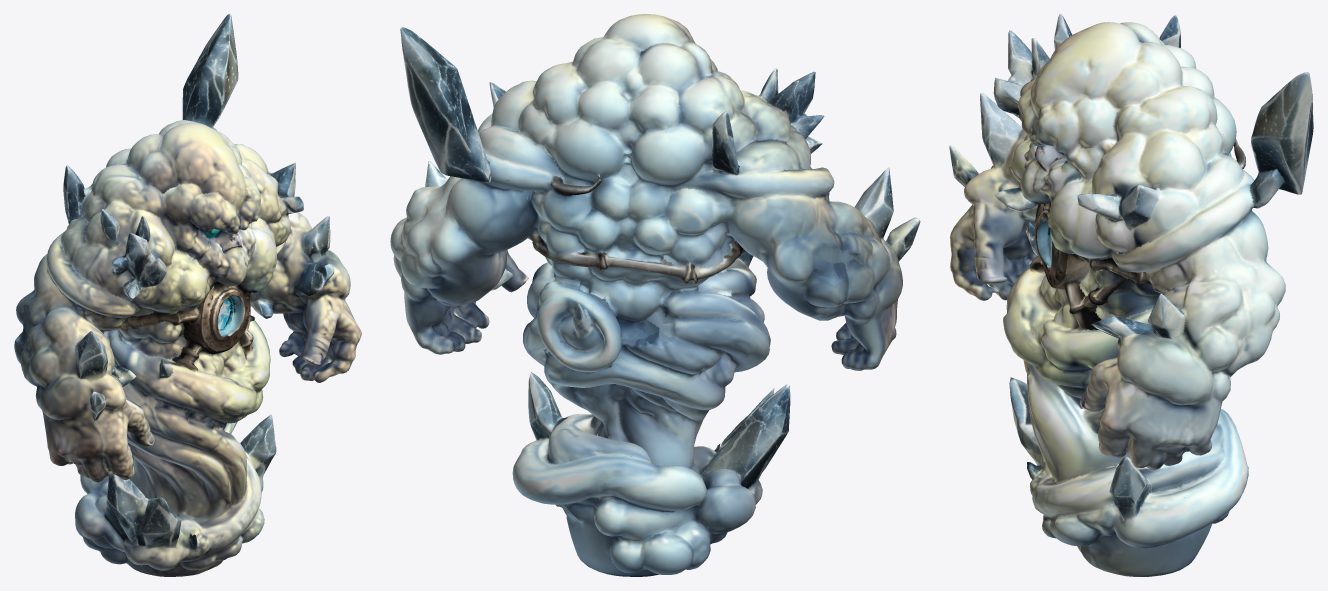
The model's file is haze.glb.
The picture shows the model from 3 angles, left to right: view 1: azimuth 30°, elevation 25°; view 2: azimuth 150°, elevation 25°; view 3: azimuth 270°, elevation 25°; orthographic projection. The views are drawn at different scales.
Size of the model in its own units: 0.7599 by 0.9412 by 0.5593.
Materials: 1 (1 with a texture image).
